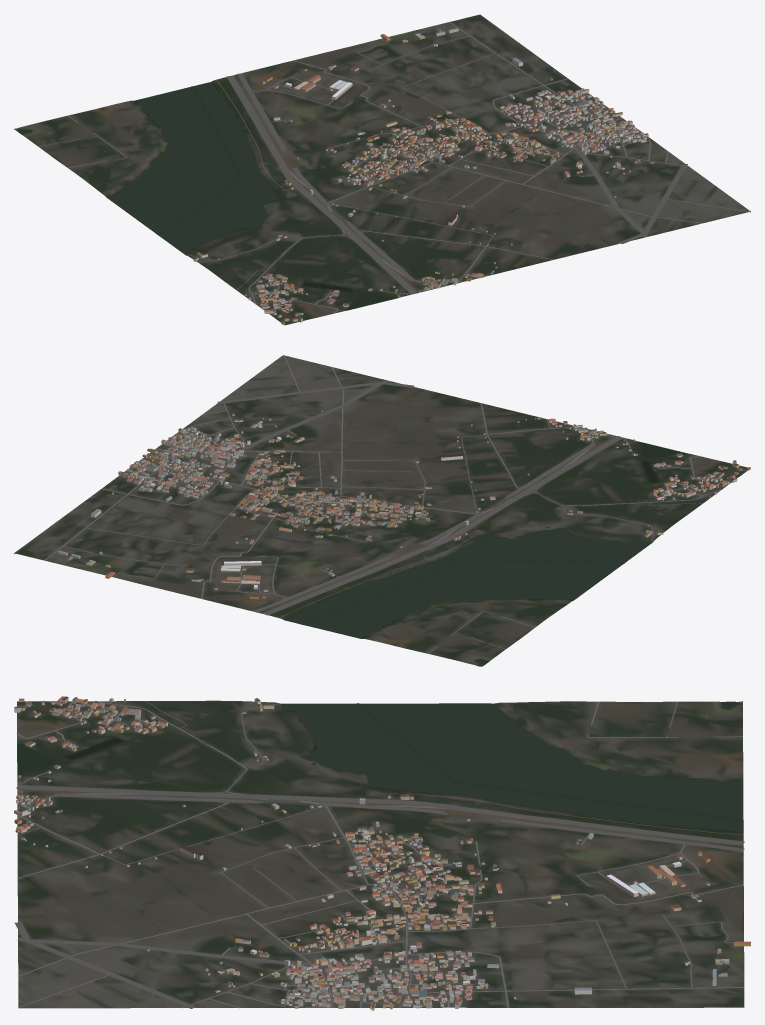
3 renders of one model, top to bottom at view 1: azimuth 30°, elevation 25°; view 2: azimuth 150°, elevation 25°; view 3: azimuth 270°, elevation 25°, orthographic. The views are drawn at different scales.
Parts seen in each view (by area): view 1: ground, water, buildings, roads; view 2: ground, water, buildings, roads; view 3: ground, water, buildings, roads.
Boxes of the visible parts, left/top/right/bottom form: ground: left=14, top=14, right=750, bottom=325; water: left=17, top=82, right=395, bottom=309; buildings: left=193, top=28, right=654, bottom=325; roads: left=38, top=22, right=749, bottom=322; ground: left=14, top=355, right=747, bottom=666; water: left=286, top=441, right=685, bottom=665; buildings: left=57, top=410, right=750, bottom=599; roads: left=44, top=355, right=747, bottom=653; ground: left=17, top=700, right=744, bottom=1008; water: left=17, top=701, right=743, bottom=831; buildings: left=14, top=696, right=750, bottom=1010; roads: left=14, top=700, right=744, bottom=1008.
Size of the model in its own units: 1420 by 19.98 by 1423.
